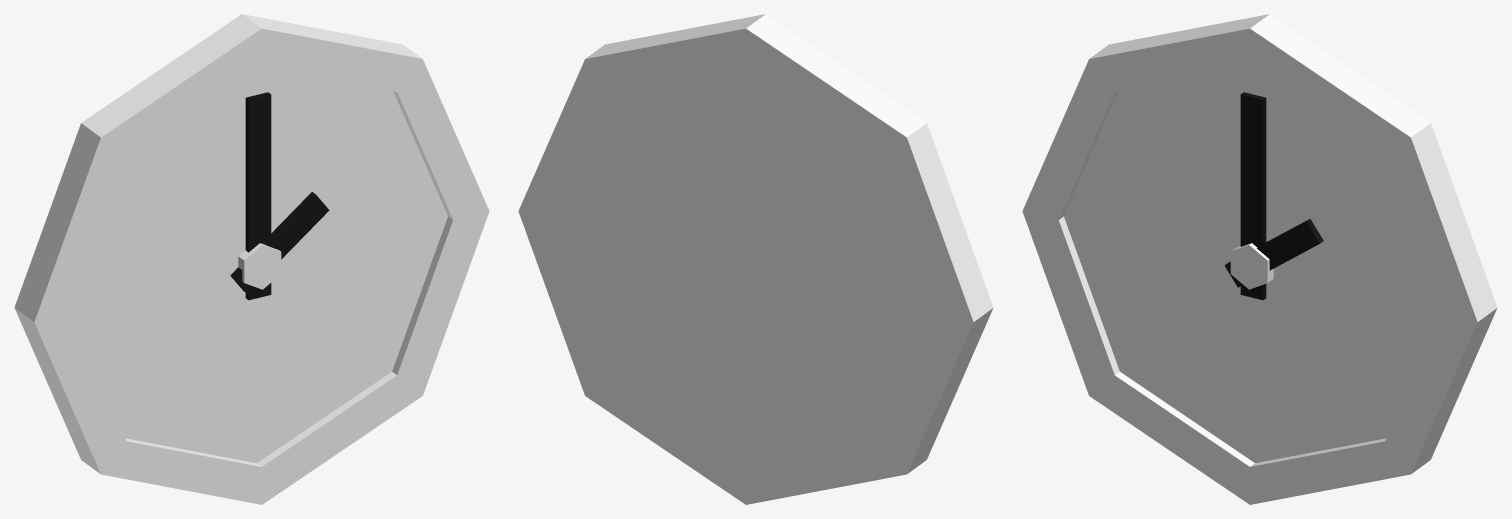
The model's file is clock.fbx.
3 renders of one model, left to right at view 1: azimuth 30°, elevation 25°; view 2: azimuth 150°, elevation 25°; view 3: azimuth 330°, elevation 25°, orthographic.
Parts seen in each view (by area): view 1: clock, minute hand, hour hand; view 2: clock; view 3: clock, minute hand, hour hand.
Boxes of the visible parts, x1,y1,x2,y2 form: clock: (14, 14, 489, 504); minute hand: (245, 92, 271, 300); hour hand: (230, 192, 329, 293); clock: (518, 14, 993, 504); clock: (1022, 14, 1497, 504); minute hand: (1240, 92, 1266, 300); hour hand: (1224, 219, 1323, 287).
Bounding box in the file's own units: 0.9314 × 0.9314 × 0.0736.
1 material, 1 textured.
